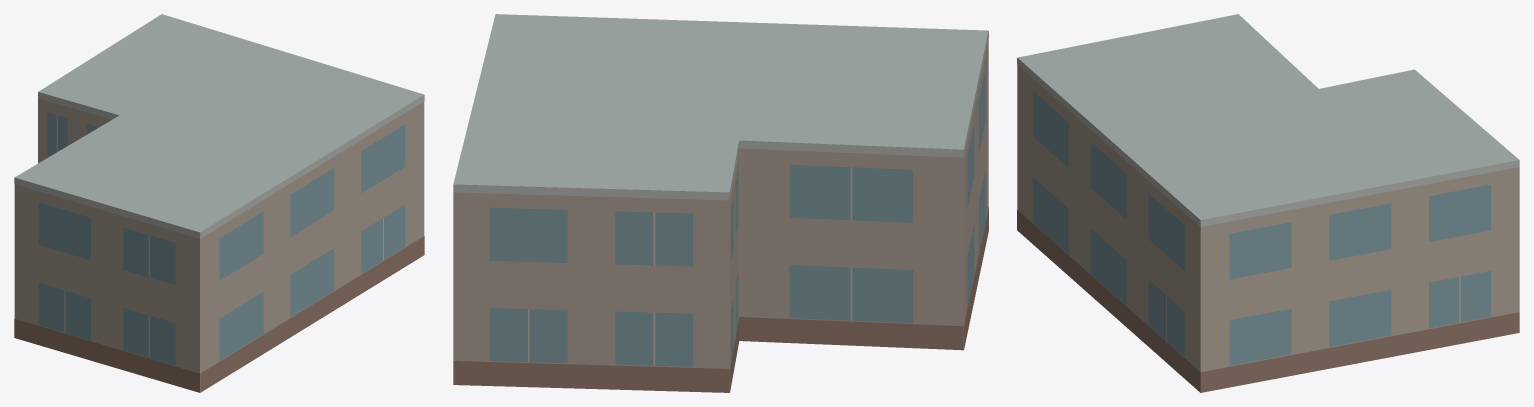
The model's file is survey-upis-32912446.glb.
The picture shows the model from 3 angles, left to right: view 1: azimuth 30°, elevation 25°; view 2: azimuth 150°, elevation 25°; view 3: azimuth 270°, elevation 25°; orthographic projection. The views are drawn at different scales.
Parts seen in each view (by area): view 1: survey-upis-32912446.tmp; view 2: survey-upis-32912446.tmp; view 3: survey-upis-32912446.tmp.
Part boxes in pixels (x1,y1,x2,y2): survey-upis-32912446.tmp: (14,14,424,392); survey-upis-32912446.tmp: (453,14,988,392); survey-upis-32912446.tmp: (1017,14,1519,392).
Size of the model in its own units: 15.62 by 6.1 by 16.09.
